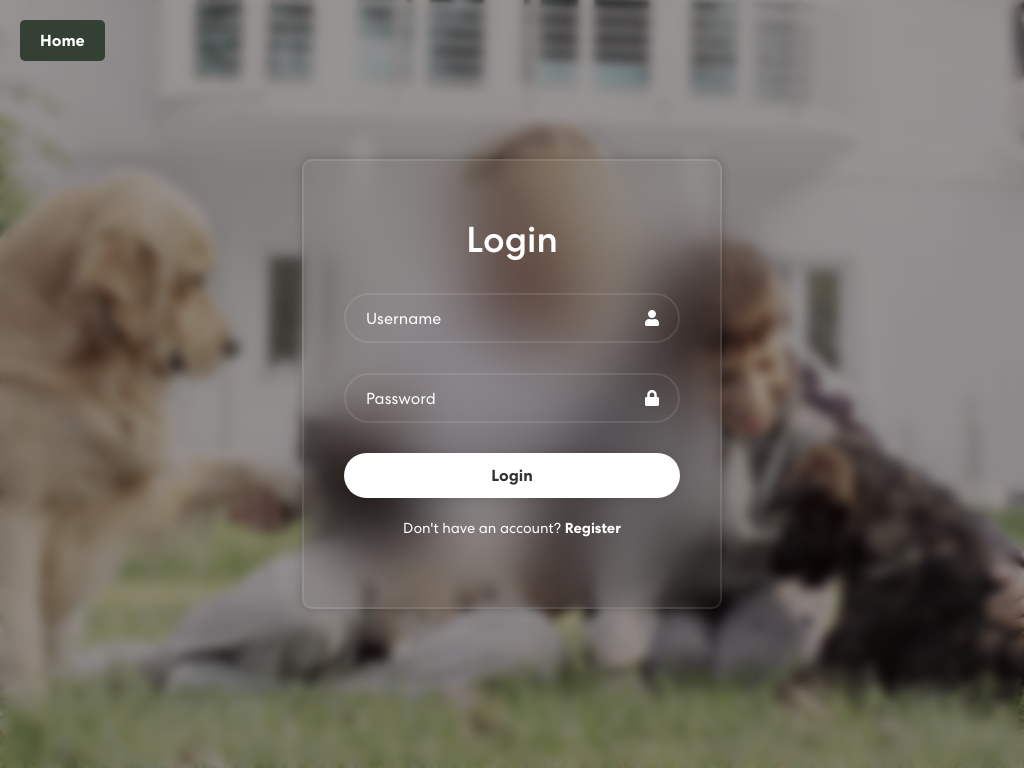
Test case: Login Component › displays error message on failed login
Simulate user input and button click with incorrect credentials
Step 1. Type "wronguser" into the field with placeholder "Username" → (512, 318), box [344,293,680,343]
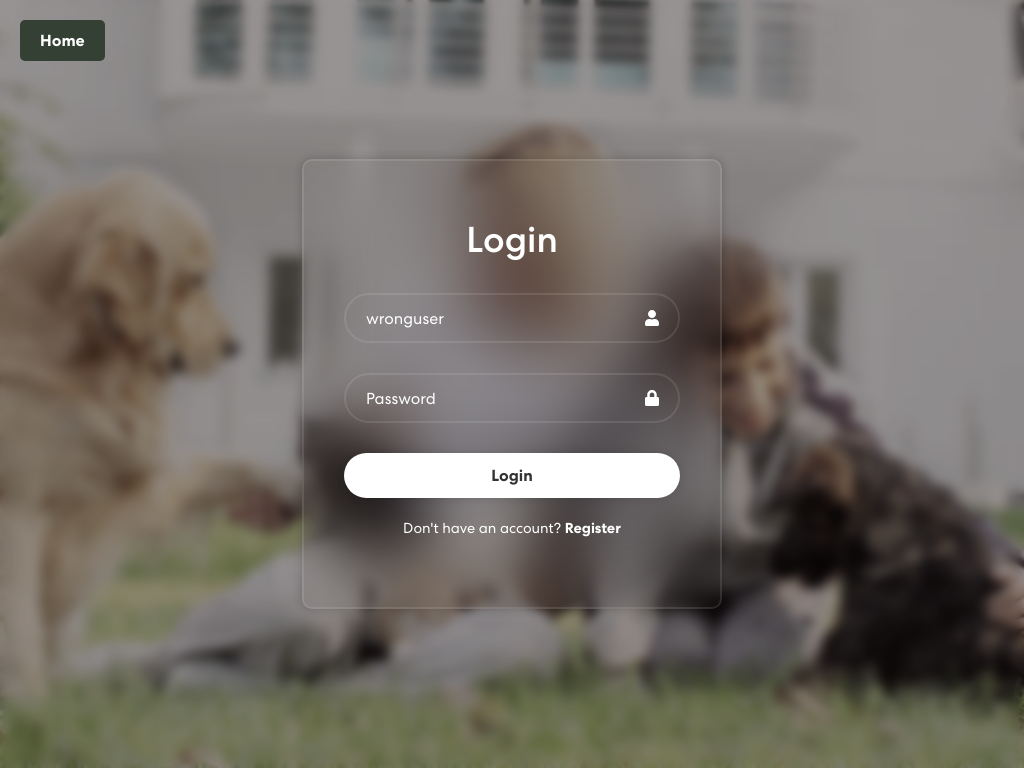
Step 2. Type "wrongpassword" into the password field with placeholder "Password" → (512, 398), box [344,373,680,423]
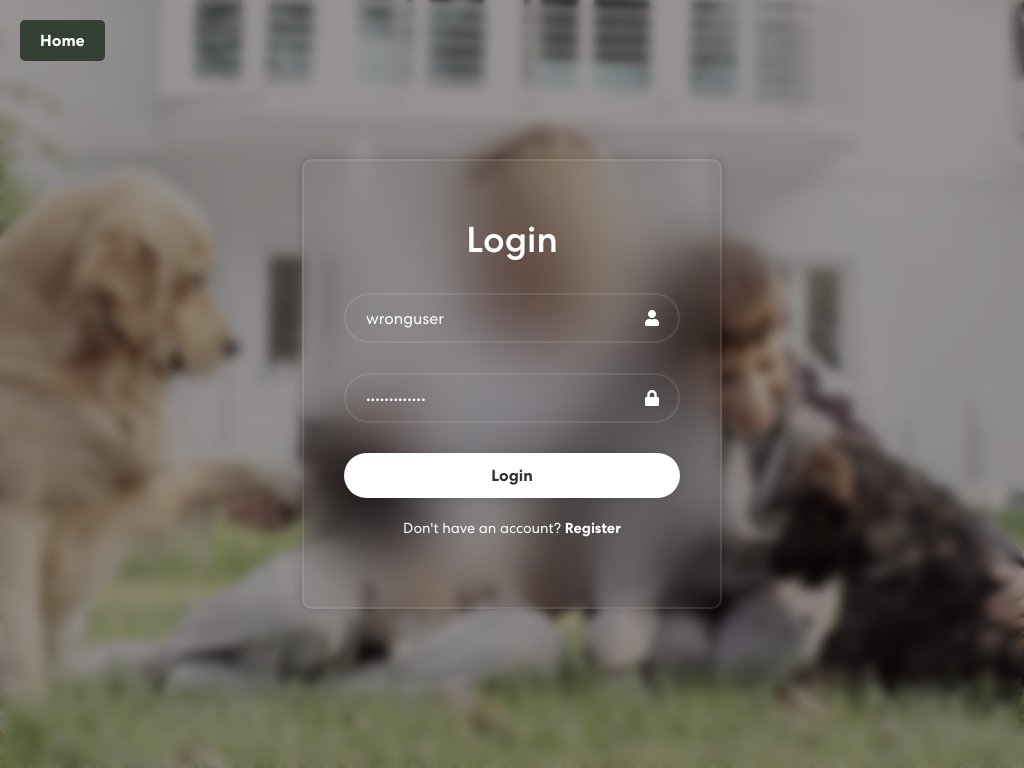
Step 3. Click the button "Login" → (512, 476), box [344,453,680,498]
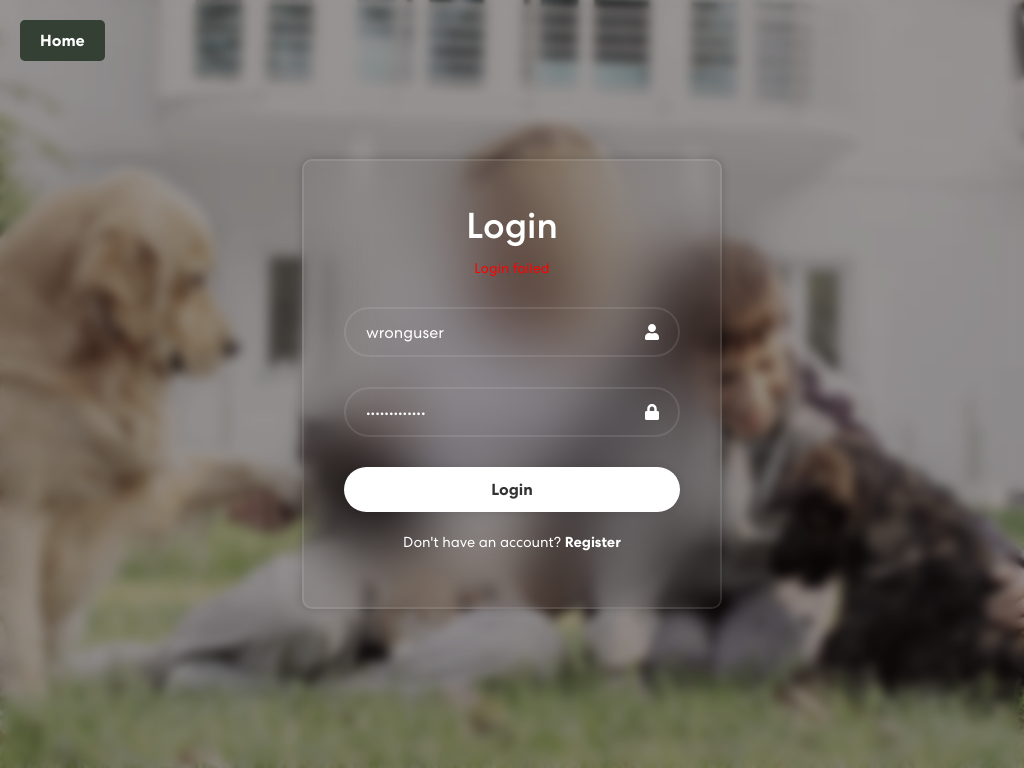
Expected: the text "Login failed" is shown, [474,259,550,277]
